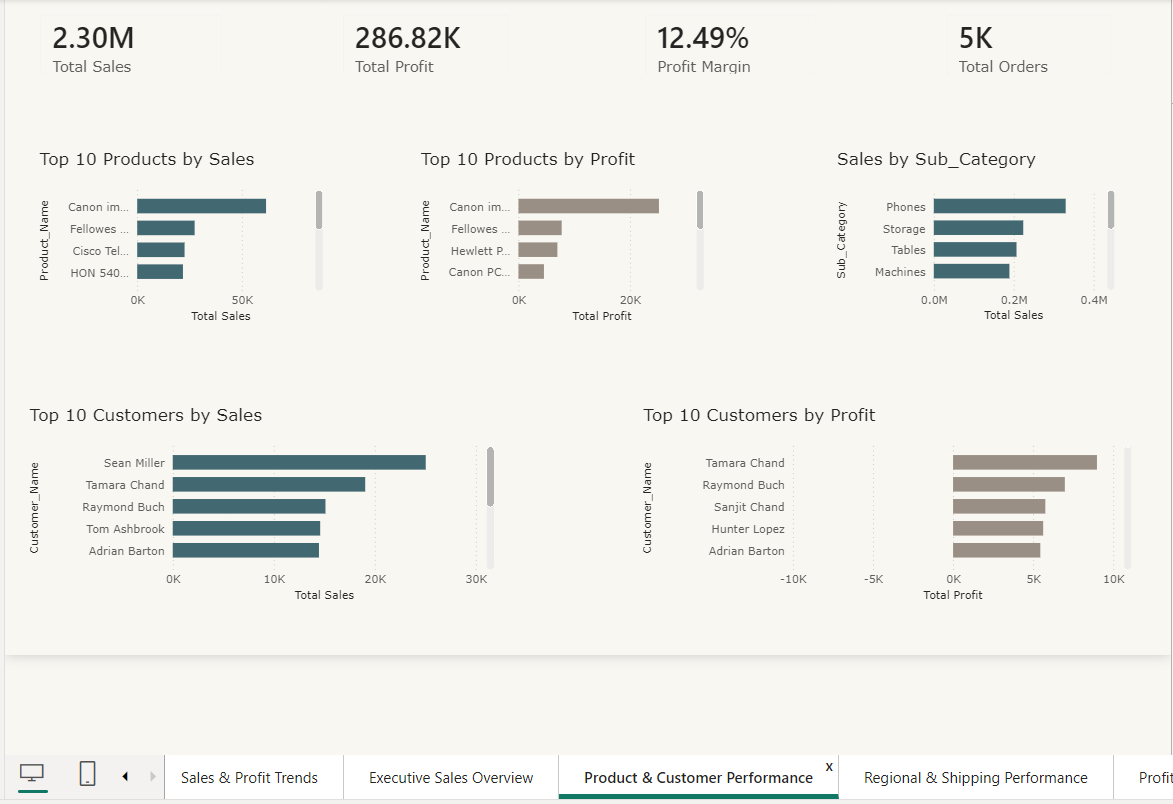

What the dashboard file says about the page in this screenshot:
{"tool":"powerbi","page":{"name":"Product & Customer Performance","canvas":[1280,720],"ordinal":2},"visuals":[{"type":"cardVisual","fields":{"Data":["_Measures.Total Sales"]},"box":[22,0,233.3,100.2],"z":0},{"type":"cardVisual","fields":{"Data":["_Measures.Total Profit"]},"box":[354,0,216.8,100.2],"z":1},{"type":"cardVisual","fields":{"Data":["_Measures.Profit Margin"]},"box":[686.1,0,222.3,100.2],"z":2},{"type":"cardVisual","fields":{"Data":["_Measures.Total Orders"]},"box":[1016.8,0,215.4,100.2],"z":3},{"type":"barChart","title":"Top 10 Products by Sales","fields":{"Category":["vw_Sales_Product.Product_Name"],"Y":["_Measures.Total Sales"]},"box":[32.9,163.3,321.1,196.2],"z":4},{"type":"barChart","title":"Top 10 Products by Profit","fields":{"Category":["vw_Sales_Product.Product_Name"],"Y":["_Measures.Total Profit"]},"box":[451.5,163.3,321,196],"z":5},{"type":"barChart","title":" Sales by Sub_Category","fields":{"Category":["vw_Sales_Product.Sub_Category"],"Y":["_Measures.Total Sales"]},"box":[908.4,163.3,314.9,195.4],"z":6},{"type":"barChart","title":"Top 10 Customers by Sales","fields":{"Category":["vw_Sales_Customer.Customer_Name"],"Y":["_Measures.Total Sales"]},"box":[22,444.6,520.1,220.9],"z":7},{"type":"barChart","title":"Top 10 Customers by Profit","fields":{"Category":["vw_Sales_Customer.Customer_Name"],"Y":["_Measures.Total Profit"]},"box":[695.7,444.6,546.1,220.9],"z":8}]}

Visuals, with their boxes on the page's 1280x720 design canvas (x1, y1, x2, y2). These are canvas units, not pixel positions in the 1173x804 screenshot, which may show the page scaled, cropped or inside an application window:
cardVisual - _Measures.Total Sales: [left=22, top=0, right=255, bottom=100]
cardVisual - _Measures.Total Profit: [left=354, top=0, right=571, bottom=100]
cardVisual - _Measures.Profit Margin: [left=686, top=0, right=908, bottom=100]
cardVisual - _Measures.Total Orders: [left=1017, top=0, right=1232, bottom=100]
"Top 10 Products by Sales" barChart: [left=33, top=163, right=354, bottom=360]
"Top 10 Products by Profit" barChart: [left=452, top=163, right=772, bottom=359]
" Sales by Sub_Category" barChart: [left=908, top=163, right=1223, bottom=359]
"Top 10 Customers by Sales" barChart: [left=22, top=445, right=542, bottom=666]
"Top 10 Customers by Profit" barChart: [left=696, top=445, right=1242, bottom=666]
